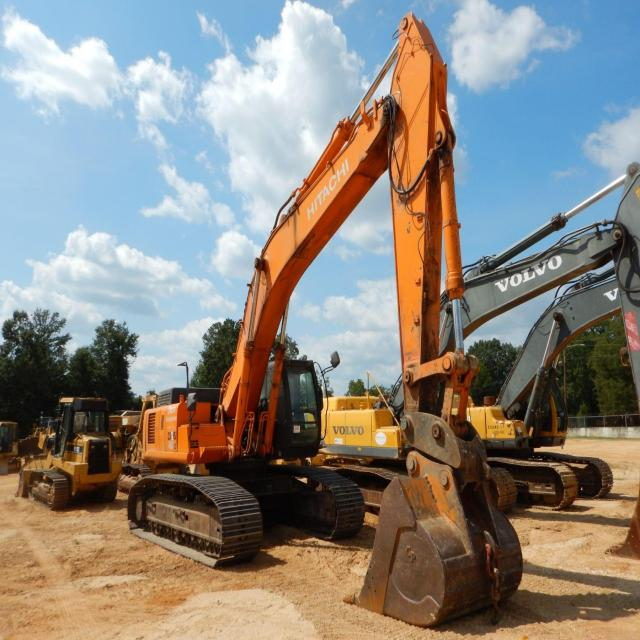Bulldozer: (18, 385, 120, 532)
Excavator: (132, 13, 526, 630)
